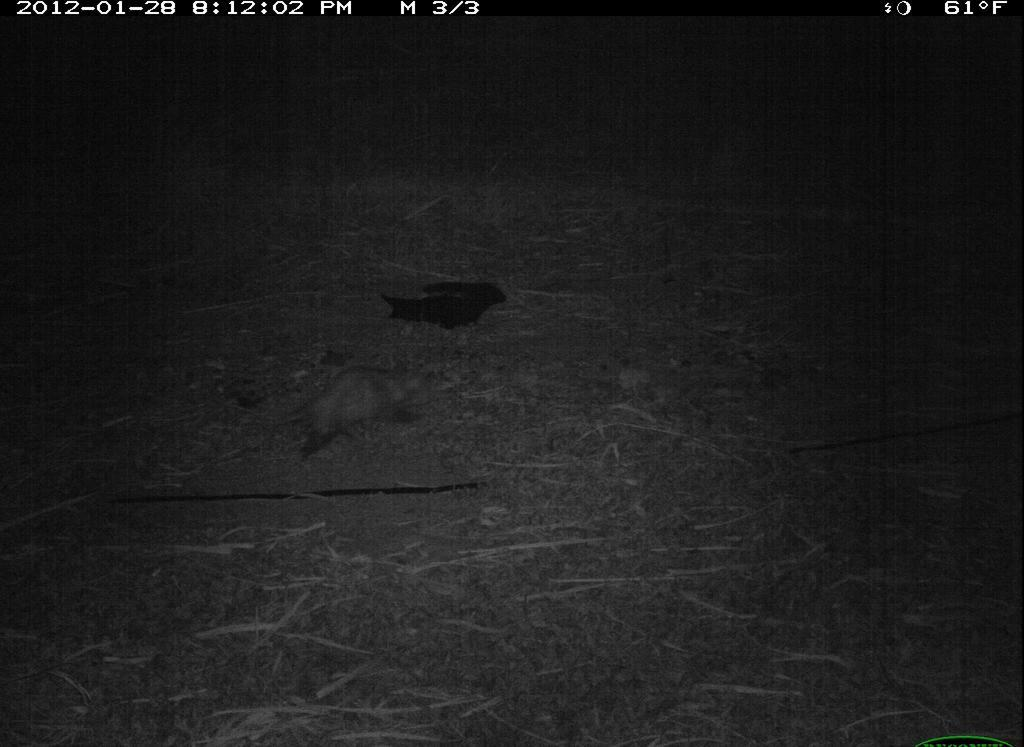opossum: (250, 350, 456, 472)
